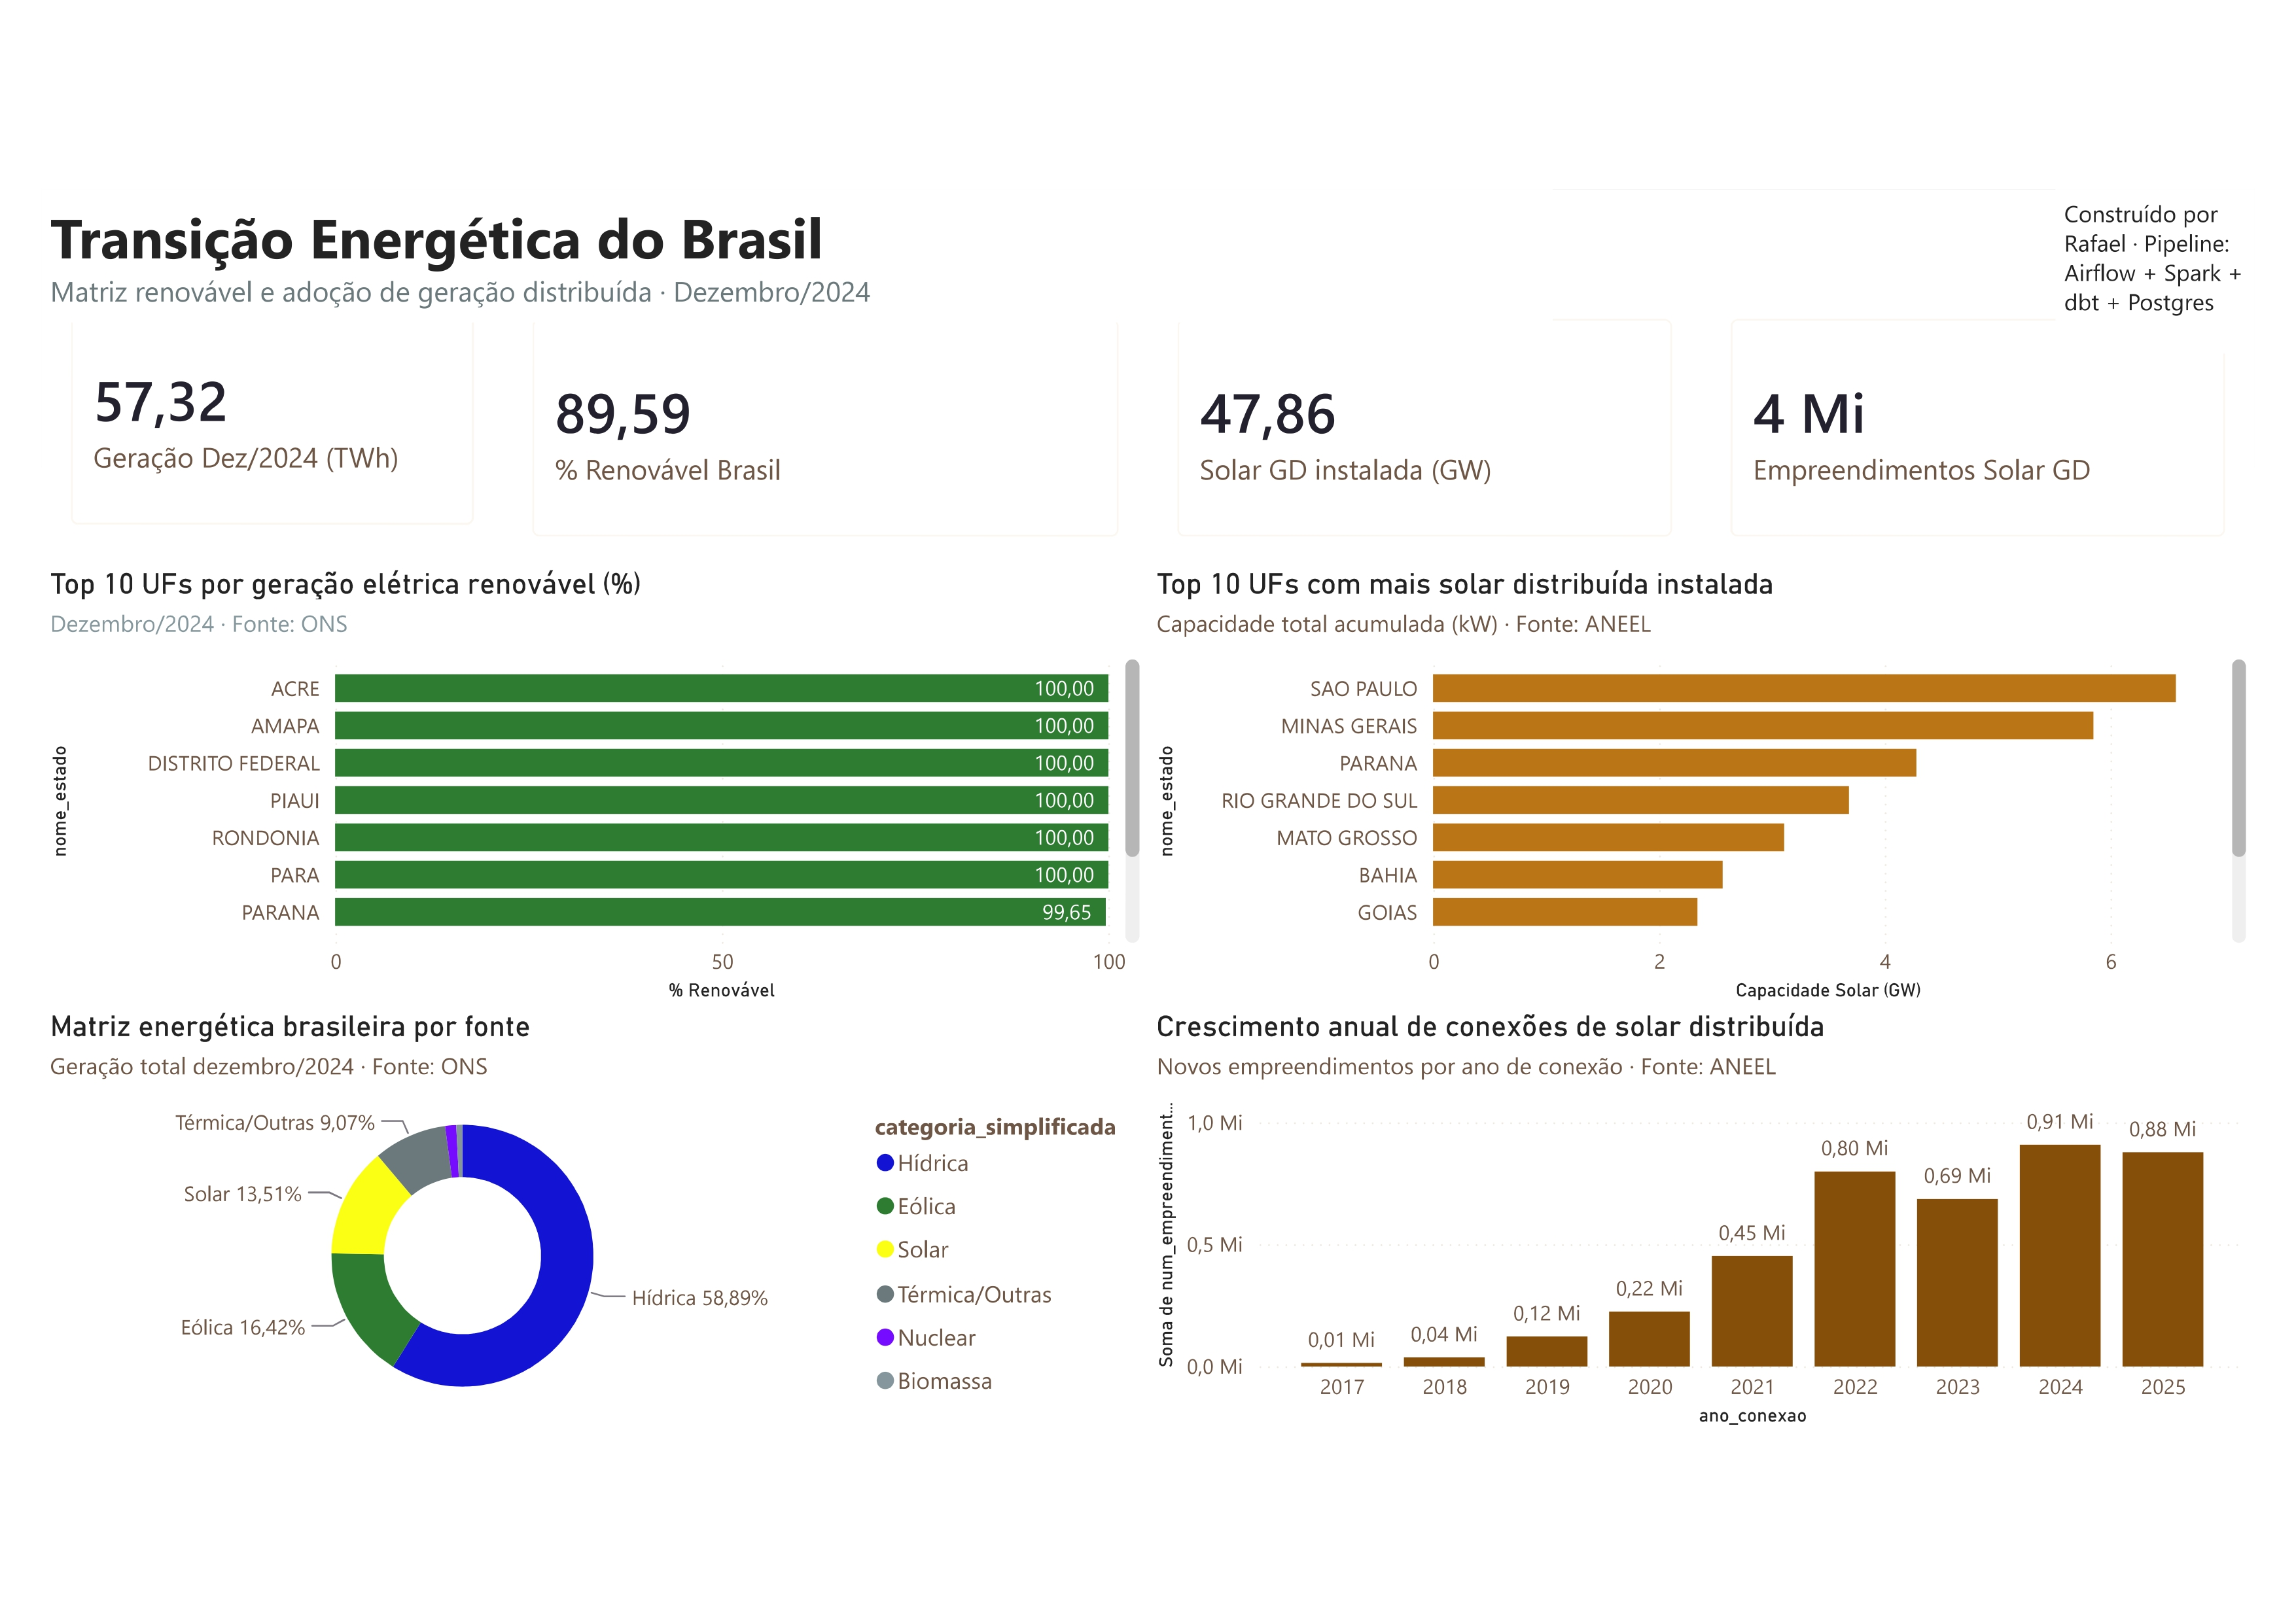

What the dashboard file says about the page in this screenshot:
{"tool":"powerbi","page":{"name":"Página 1","canvas":[1280,720],"ordinal":0},"visuals":[{"type":"barChart","title":"Top 10 UFs por geração elétrica renovável (%)","fields":{"Y":["public_marts fact_geracao_mensal.% Renovável"],"Category":["public_marts dim_uf.nome_estado"]},"box":[0,218,640,256],"z":0},{"type":"barChart","title":"Top 10 UFs com mais solar distribuída instalada","fields":{"Category":["public_marts dim_uf.nome_estado"],"Y":["public_marts fact_capacidade_distribuida.Capacidade Solar MW"]},"box":[640,218,640,256],"z":1000},{"type":"columnChart","title":"Crescimento anual de conexões de solar distribuída","fields":{"Category":["public_marts fact_capacidade_distribuida.ano_conexao"],"Y":["Sum(public_marts fact_capacidade_distribuida.num_empreendimentos_novos)"]},"box":[640.5,474.2,639.5,245.8],"z":2000},{"type":"donutChart","title":"Matriz energética brasileira por fonte","fields":{"Category":["public_marts dim_fonte_energia.categoria_simplificada"],"Y":["Sum(public_marts fact_geracao_mensal.geracao_total_mwh)"]},"box":[0,474,640,245],"z":3000},{"type":"cardVisual","fields":{"Data":["public_marts fact_geracao_mensal.Geração Total TWh"]},"box":[0,50,267,161],"z":4000},{"type":"cardVisual","fields":{"Data":["public_marts fact_geracao_mensal.% Renovável"]},"box":[267,58,373,160],"z":5000},{"type":"cardVisual","fields":{"Data":["public_marts fact_capacidade_distribuida.Capacidade Solar (MW)"]},"box":[640,58,320,160],"z":6000},{"type":"cardVisual","fields":{"Data":["public_marts fact_capacidade_distribuida.Empreendimentos Solar GD"]},"box":[960,58,320,160],"z":7000},{"type":"textbox","box":[0,0,874,77],"z":8000},{"type":"textbox","box":[1165,0,115,95],"z":9000}]}

Visuals, with their boxes on the page's 1280x720 design canvas (x1, y1, x2, y2). These are canvas units, not pixel positions in the 2296x1623 screenshot, which may show the page scaled, cropped or inside an application window:
"Top 10 UFs por geração elétrica renovável (%)" barChart: pyautogui.locateOnScreen(0, 218, 640, 474)
"Top 10 UFs com mais solar distribuída instalada" barChart: pyautogui.locateOnScreen(640, 218, 1280, 474)
"Crescimento anual de conexões de solar distribuída" columnChart: pyautogui.locateOnScreen(640, 474, 1280, 720)
"Matriz energética brasileira por fonte" donutChart: pyautogui.locateOnScreen(0, 474, 640, 719)
cardVisual - public_marts fact_geracao_mensal.Geração Total TWh: pyautogui.locateOnScreen(0, 50, 267, 211)
cardVisual - public_marts fact_geracao_mensal.% Renovável: pyautogui.locateOnScreen(267, 58, 640, 218)
cardVisual - public_marts fact_capacidade_distribuida.Capacidade Solar (MW): pyautogui.locateOnScreen(640, 58, 960, 218)
cardVisual - public_marts fact_capacidade_distribuida.Empreendimentos Solar GD: pyautogui.locateOnScreen(960, 58, 1280, 218)
textbox: pyautogui.locateOnScreen(0, 0, 874, 77)
textbox: pyautogui.locateOnScreen(1165, 0, 1280, 95)
